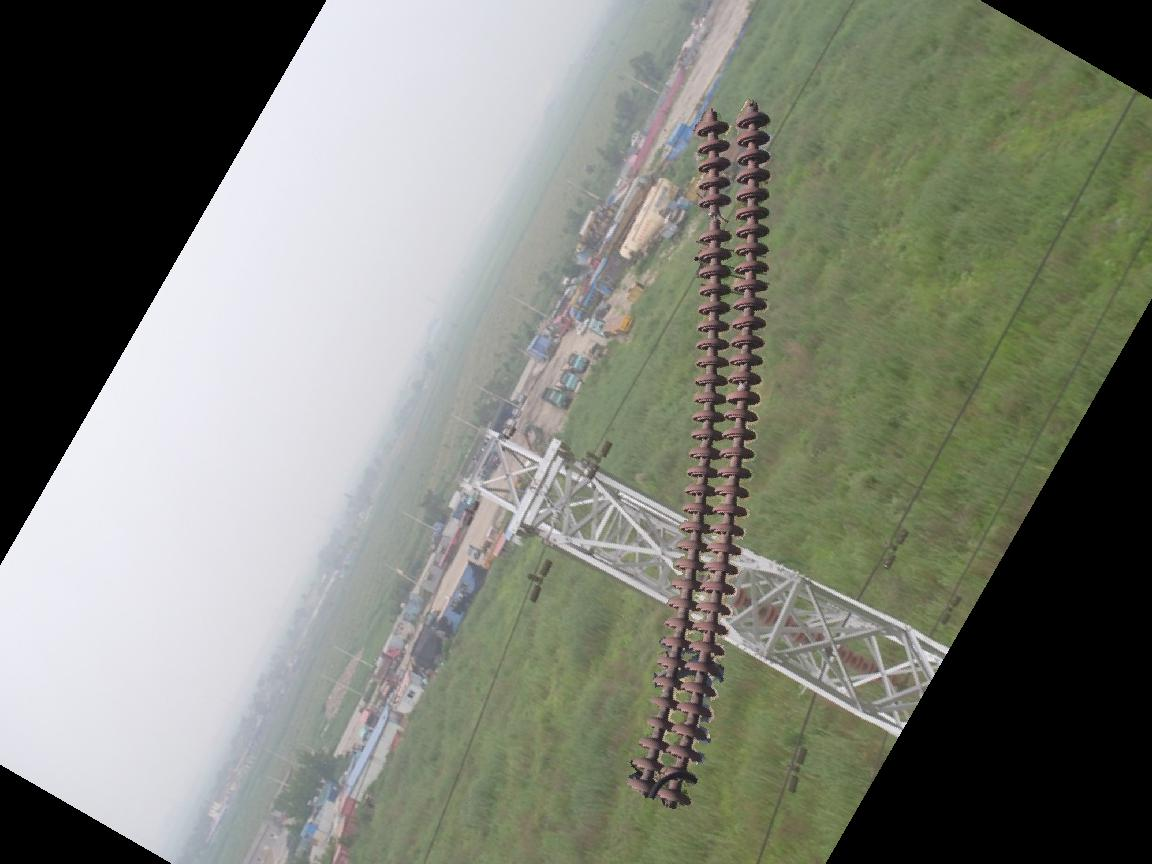insulator: (620, 99, 778, 814)
insulator_stringdrop: (694, 189, 735, 247)
